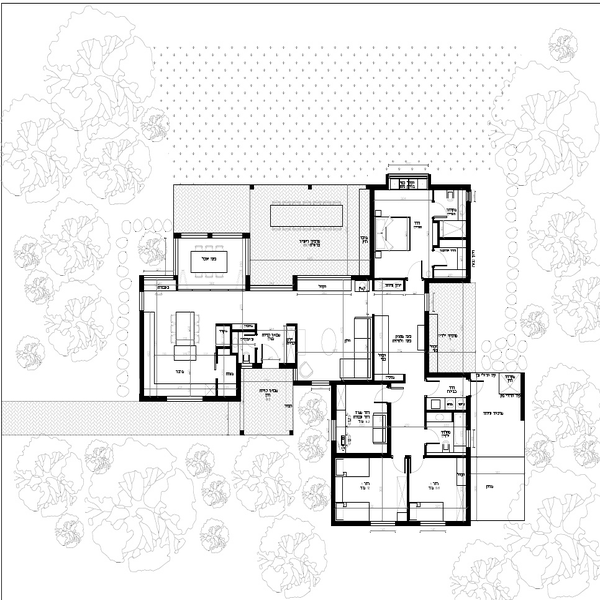door: (427, 194, 453, 220), (259, 344, 285, 369), (467, 374, 487, 398), (426, 426, 447, 446), (405, 260, 427, 278), (432, 248, 448, 272), (407, 452, 427, 470), (390, 455, 406, 476), (426, 377, 441, 397), (389, 389, 407, 402), (376, 383, 387, 403)
wall: (463, 185, 477, 284), (136, 307, 150, 402), (367, 184, 378, 280), (519, 363, 530, 424), (425, 276, 468, 291), (328, 450, 337, 520), (404, 449, 413, 519), (464, 448, 472, 526), (384, 399, 394, 456), (427, 180, 471, 192), (425, 371, 471, 382), (423, 312, 431, 374), (328, 376, 338, 421), (334, 520, 371, 529), (205, 394, 240, 403), (330, 450, 389, 455), (397, 517, 419, 530), (227, 323, 236, 354), (234, 360, 241, 396), (287, 276, 300, 292), (448, 518, 468, 527), (278, 361, 297, 369), (136, 276, 145, 289)
